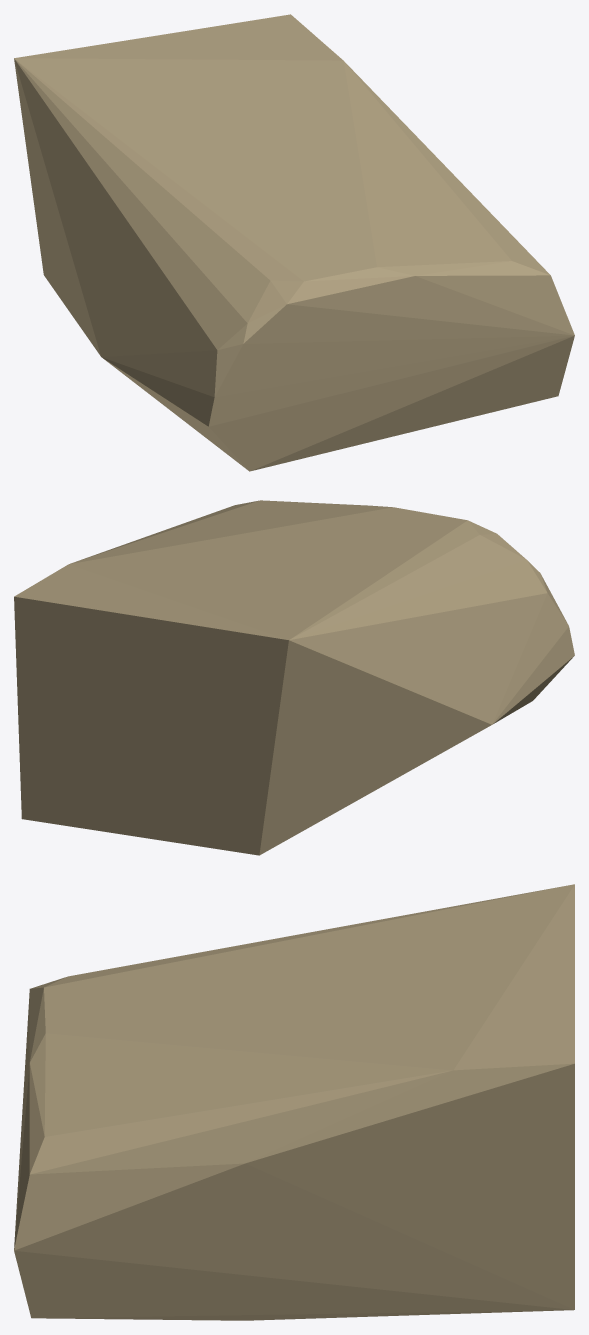
3 views of the same model, one above another, from view 1: azimuth 30°, elevation 25°; view 2: azimuth 150°, elevation 25°; view 3: azimuth 270°, elevation 25° (orthographic). The views are drawn at different scales.
Size of the model in its own units: 6.73 by 4.35 by 7.79.
